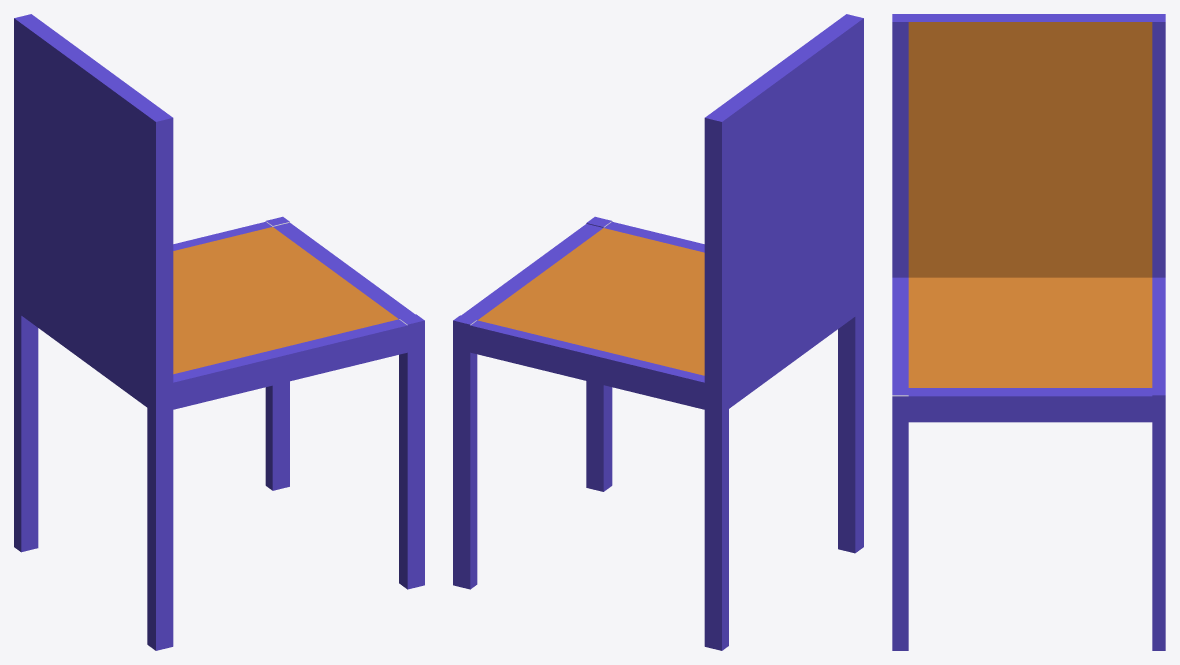
The model's file is chairpaint.glb.
3 views of the same model, side by side, from view 1: azimuth 30°, elevation 25°; view 2: azimuth 150°, elevation 25°; view 3: azimuth 270°, elevation 25° (orthographic). The views are drawn at different scales.
Parts seen in each view (by area): view 1: Cube; view 2: Cube; view 3: Cube.
Part boxes in pixels (<box>): Cube: <box>14,14,424,650</box>; Cube: <box>453,14,863,650</box>; Cube: <box>892,14,1165,650</box>.
Bounding box in the file's own units: 1.7 × 3.19 × 1.55.
